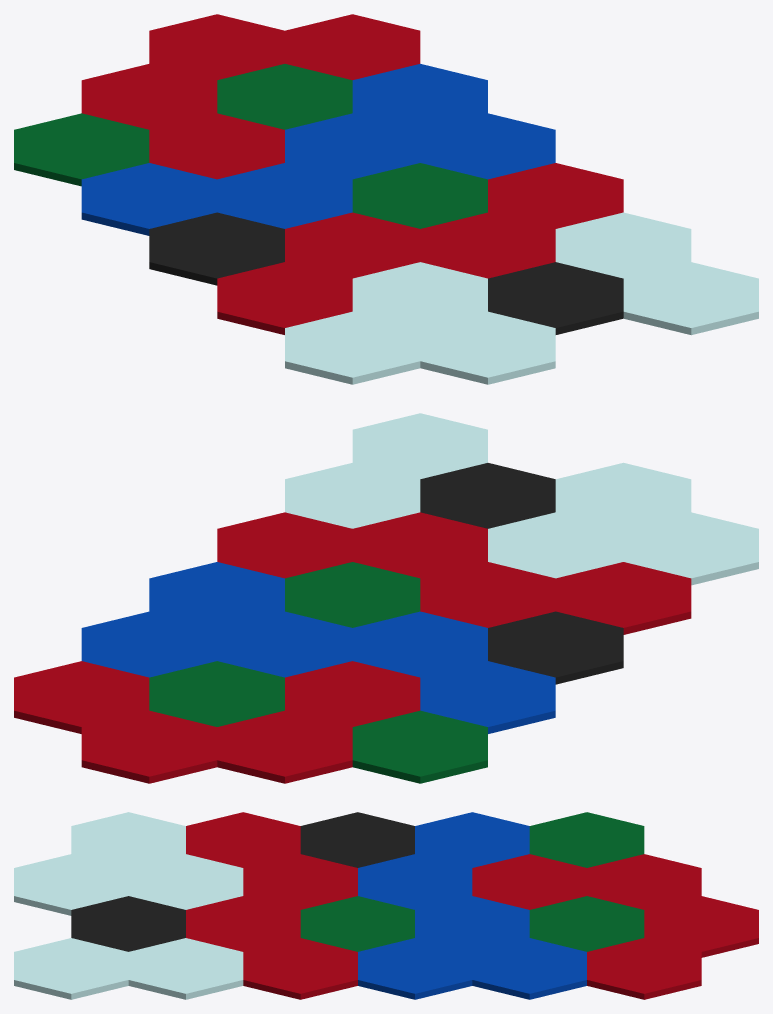
Rendered from Tutorial HexMap.FBX.
3 views of the same model, one above another, from view 1: azimuth 30°, elevation 25°; view 2: azimuth 150°, elevation 25°; view 3: azimuth 270°, elevation 25° (orthographic). The views are drawn at different scales.
Parts seen in each view (by area): view 1: Cylinder020, Cylinder017, Cylinder015, Cylinder011, Cylinder021, Cylinder016, Cylinder007, Cylinder022, Cylinder014, Cylinder005, Cylinder009, Cylinder018 (+11 smaller); view 2: Cylinder001, Cylinder007, Cylinder005, Cylinder022, Cylinder021, Cylinder020, Cylinder011, Cylinder002, Cylinder004, Cylinder017, Cylinder009, Cylinder018 (+11 smaller); view 3: Cylinder014, Cylinder008, Cylinder004, Cylinder013, Cylinder002, Cylinder015, Cylinder001, Cylinder017, Cylinder007, Cylinder019, Cylinder003, Cylinder009 (+11 smaller).
Boxes of the visible parts, x1,y1,x2,y2 form: Cylinder020: (285, 311, 420, 384); Cylinder017: (420, 311, 555, 384); Cylinder015: (623, 262, 758, 335); Cylinder011: (81, 163, 217, 235); Cylinder021: (149, 212, 284, 285); Cylinder016: (488, 262, 623, 334); Cylinder007: (14, 113, 149, 186); Cylinder022: (217, 262, 352, 334); Cylinder014: (555, 212, 691, 278); Cylinder005: (81, 63, 217, 129); Cylinder009: (285, 113, 420, 179); Cylinder018: (420, 212, 555, 278); Cylinder001: (81, 710, 217, 783); Cylinder007: (352, 710, 487, 783); Cylinder005: (217, 710, 352, 783); Cylinder022: (555, 562, 691, 634); Cylinder021: (488, 611, 623, 684); Cylinder020: (623, 512, 758, 585); Cylinder011: (420, 661, 555, 733); Cylinder002: (14, 661, 149, 733); Cylinder004: (81, 611, 217, 677); Cylinder017: (555, 462, 691, 528); Cylinder009: (217, 611, 352, 677); Cylinder018: (352, 512, 487, 578); Cylinder014: (128, 938, 243, 999); Cylinder008: (358, 938, 472, 999); Cylinder004: (472, 938, 586, 999); Cylinder013: (243, 938, 357, 999); Cylinder002: (587, 938, 701, 999); Cylinder015: (14, 938, 128, 999); Cylinder001: (644, 896, 758, 957); Cylinder017: (14, 854, 128, 915); Cylinder007: (529, 812, 644, 867); Cylinder019: (128, 854, 243, 909); Cylinder003: (529, 896, 644, 951); Cylinder009: (415, 896, 529, 951).
Size of the model in its own units: 6.5 by 0.1 by 11.26.
